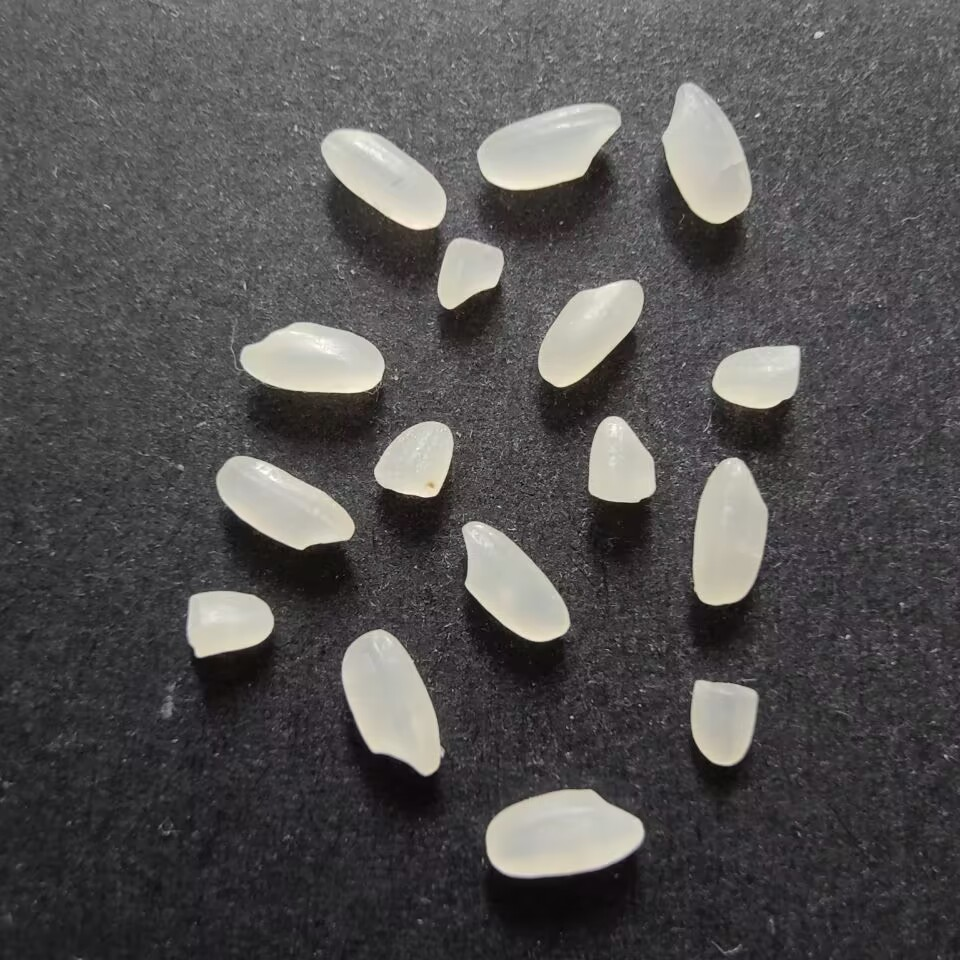broken: (181, 582, 277, 661), (581, 411, 659, 508), (373, 413, 456, 503), (684, 674, 763, 768), (705, 339, 805, 413), (433, 236, 509, 311)
rice: (481, 785, 650, 885), (340, 628, 446, 781), (453, 515, 573, 646), (213, 453, 360, 557), (658, 79, 755, 228), (318, 124, 450, 233), (471, 100, 622, 193), (689, 451, 775, 608), (533, 277, 649, 392), (234, 318, 392, 399)
